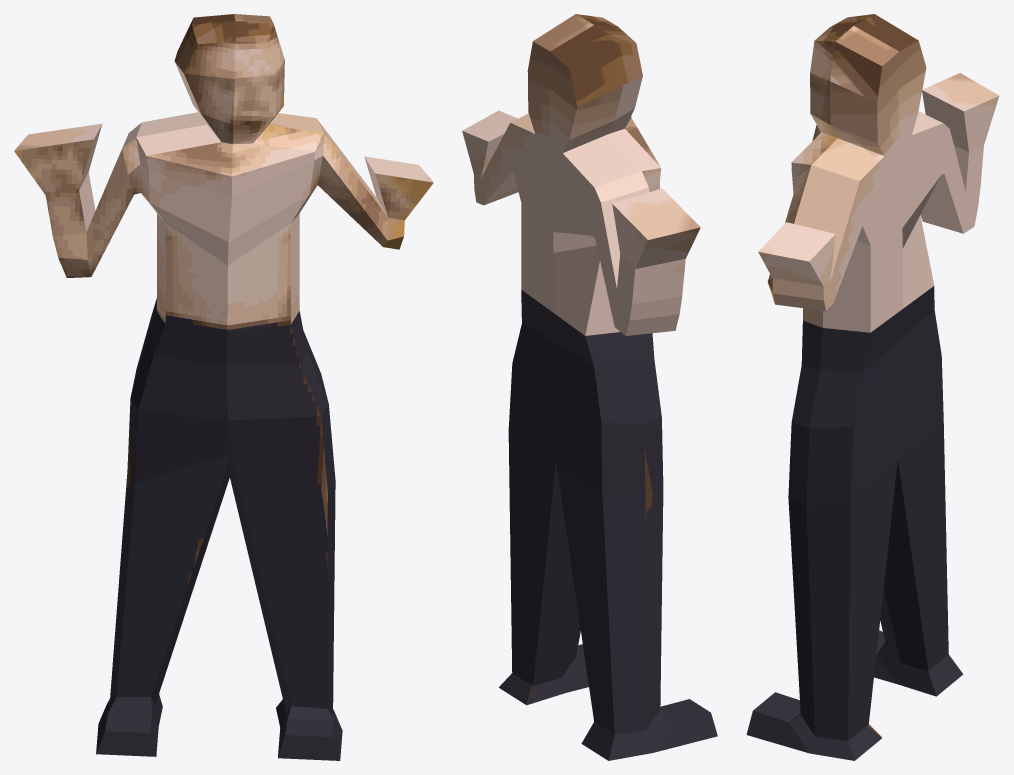
Rendered from Gamaz.fbx.
3 renders of one model, left to right at view 1: azimuth 30°, elevation 25°; view 2: azimuth 150°, elevation 25°; view 3: azimuth 270°, elevation 25°, orthographic. The views are drawn at different scales.
Parts seen in each view (by area): view 1: Gamaz; view 2: Gamaz; view 3: Gamaz.
Boxes of the visible parts, x1,y1,x2,y2 form: Gamaz: (14,14,433,760); Gamaz: (462,14,717,760); Gamaz: (746,14,999,760).
Bounding box in the file's own units: 83.35 × 174 × 57.94.
